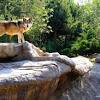Lobo: (1, 15, 33, 40)
